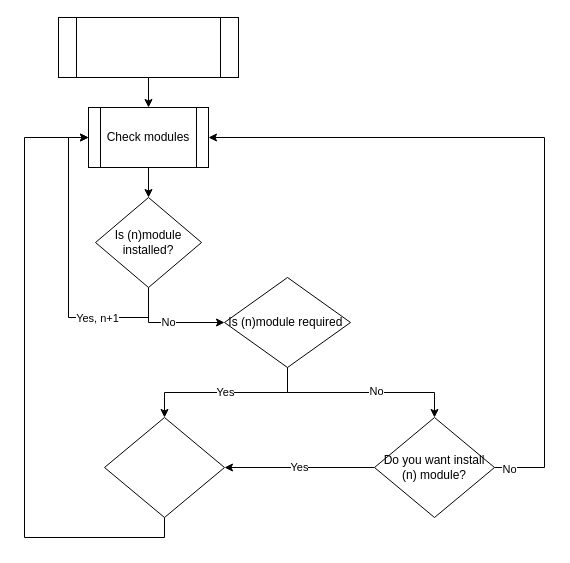
The diagram is 570 pixels wide and 563 high, and some of its shapes have lost their labels. Each missing label, with the centre of its shape:
Install it: the point at 164,467
Upload a template: the point at 148,47
